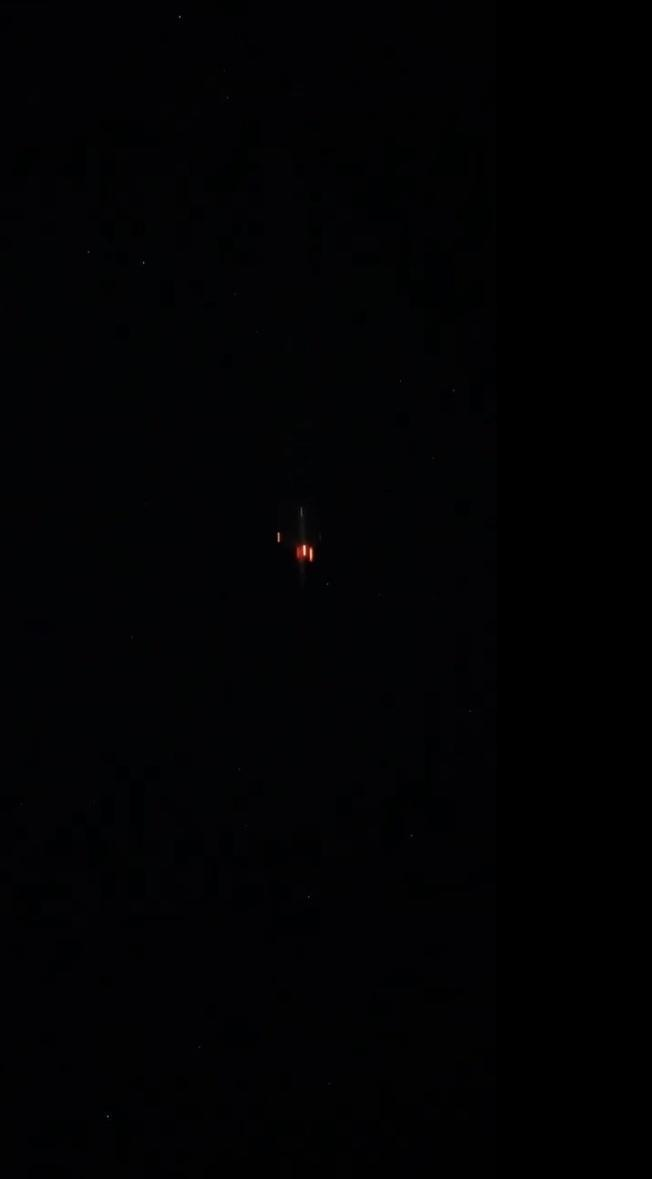Plane: (253, 478, 339, 604)
